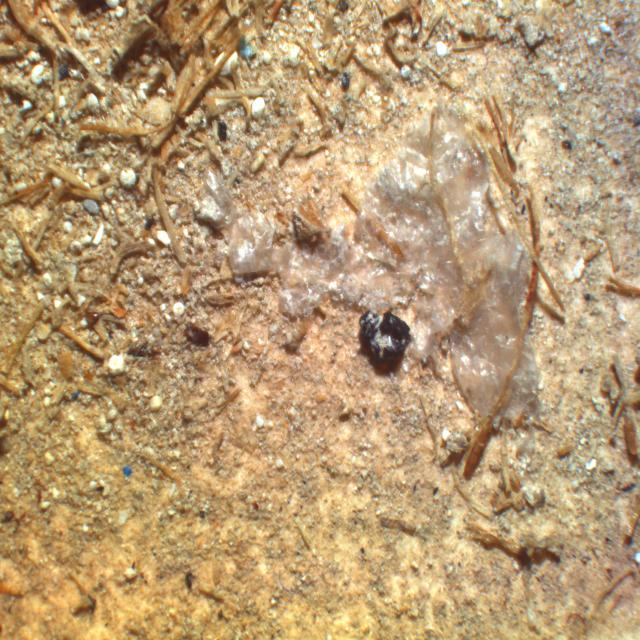microplastic: (196, 101, 538, 424)
